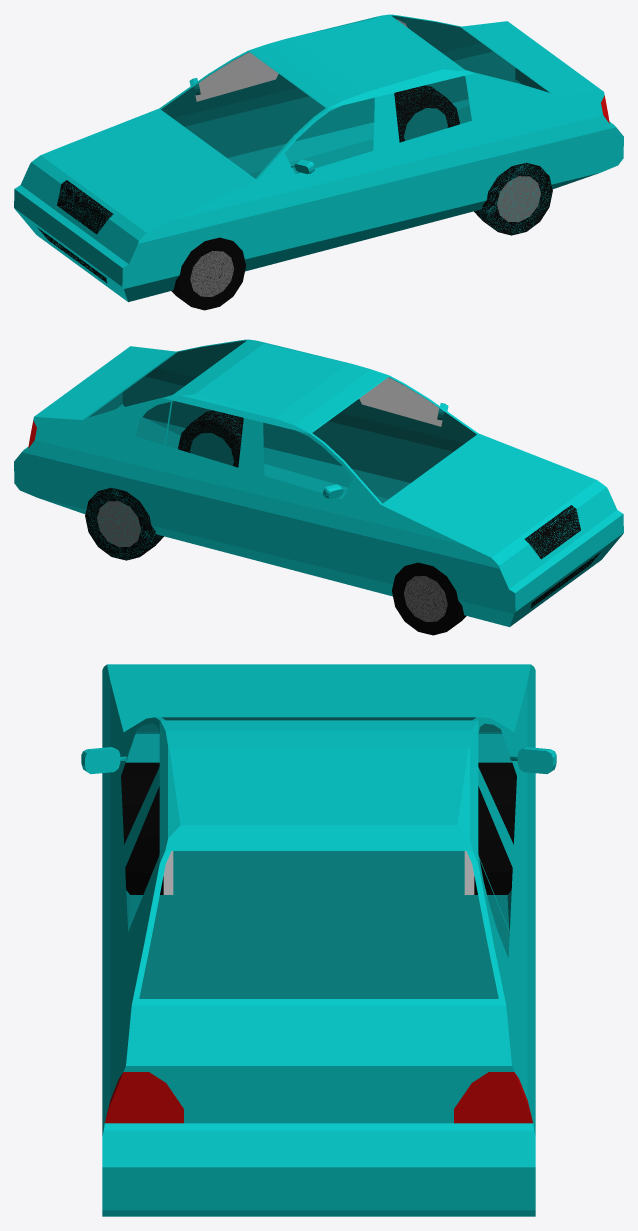
Rendered from Blue Car.dae.
3 renders of one model, top to bottom at view 1: azimuth 30°, elevation 25°; view 2: azimuth 150°, elevation 25°; view 3: azimuth 270°, elevation 25°, orthographic. The views are drawn at different scales.
Visible parts, largest first — view 1: instance_11 (×5), instance_8 (×6), instance_15 (×3), instance_14 (×4), instance_18, instance_17, instance_12 (×3), instance_10 (×3), instance_9 (×2); view 2: instance_8 (×5), instance_11 (×6), instance_18 (×3), instance_17 (×4), instance_15, instance_14, instance_9 (×3), instance_13 (×3), instance_12 (×2); view 3: instance_8 (×5), instance_11 (×5), instance_14 (×2), instance_17 (×2), instance_18 (×2), instance_15 (×2), instance_13, instance_10, instance_16, instance_19.
Part boxes in pixels (box(x1,y1,x2,y2)): instance_11 (×5): box(68, 42, 623, 302); instance_8 (×6): box(14, 14, 555, 267); instance_15 (×3): box(259, 92, 390, 266); instance_14 (×4): box(384, 76, 502, 234); instance_18: box(165, 77, 288, 173); instance_17: box(282, 81, 374, 162); instance_12 (×3): box(474, 162, 552, 235); instance_10 (×3): box(171, 237, 245, 310); instance_9 (×2): box(394, 85, 459, 142); instance_8 (×5): box(14, 367, 569, 627); instance_11 (×6): box(82, 339, 623, 592); instance_18 (×3): box(247, 417, 378, 591); instance_17 (×4): box(135, 401, 253, 559); instance_15: box(349, 402, 472, 498); instance_14: box(263, 406, 355, 487); instance_9 (×3): box(85, 487, 163, 560); instance_13 (×3): box(392, 562, 466, 635); instance_12 (×2): box(178, 410, 243, 467); instance_8 (×5): box(319, 664, 535, 1216); instance_11 (×5): box(102, 664, 318, 1216); instance_14 (×2): box(102, 786, 159, 1016); instance_17 (×2): box(478, 786, 535, 1016); instance_18 (×2): box(479, 724, 535, 934); instance_15 (×2): box(102, 724, 158, 931); instance_13: box(474, 762, 516, 894); instance_10: box(121, 762, 163, 894); instance_16: box(81, 747, 127, 774); instance_19: box(510, 747, 556, 774).
Size of the model in its own units: 188 by 77.3 by 58.82.
